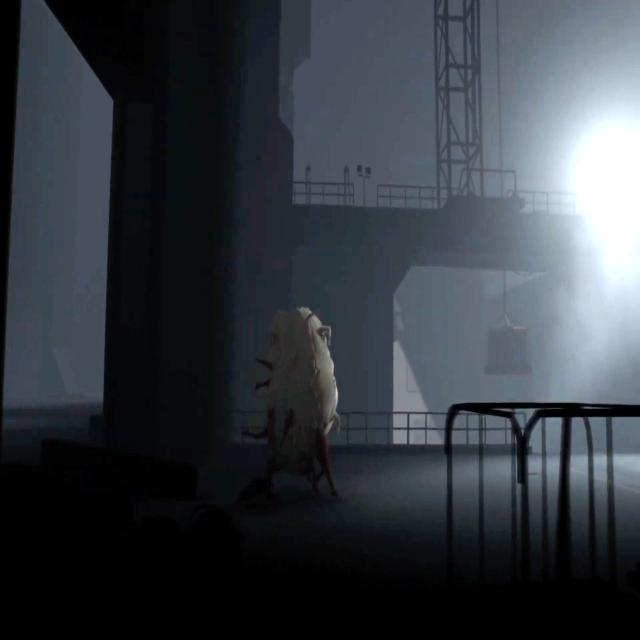blob: (242, 302, 339, 498)
dog: (134, 516, 189, 568), (186, 506, 243, 541), (234, 475, 280, 505)
structure: (436, 0, 481, 206), (329, 412, 527, 450), (515, 187, 640, 215), (376, 181, 464, 209), (293, 183, 356, 205)
